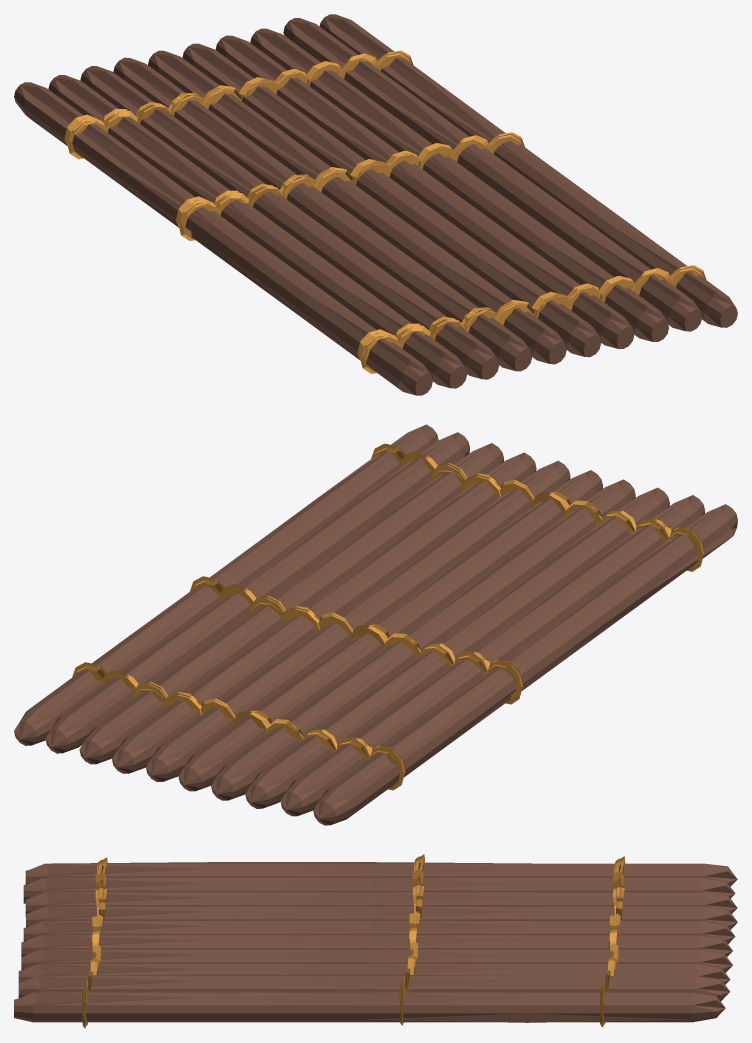
The model's file is Liferaft made of logs.glb.
3 renders of one model, top to bottom at view 1: azimuth 30°, elevation 25°; view 2: azimuth 150°, elevation 25°; view 3: azimuth 270°, elevation 25°, orthographic. The views are drawn at different scales.
Visible parts, largest first — view 1: group1109924147, group1479666486, group1006558148, group1051162785, group1740383255, group1007647190, group1103429856, group1219024400, group956271849, group333739939, group1555637147, group403370847 (+4 smaller); view 2: group1109924147, group1479666486, group1740383255, group1006558148, group1051162785, group1103429856, group956271849, group1007647190, group1219024400, group333739939, group731174037, group635209750 (+4 smaller); view 3: group333739939, group1479666486, group1740383255, group1007647190, group1219024400, group1051162785, group1006558148, group1109924147, group956271849, group1103429856, group1555637147, group403370847 (+4 smaller).
Boxes of the visible parts, box(x1,y1,x2,y2) form: group1109924147: box(14, 82, 432, 395); group1479666486: box(283, 18, 702, 331); group1006558148: box(113, 57, 531, 371); group1051162785: box(80, 66, 499, 379); group1740383255: box(182, 43, 600, 357); group1007647190: box(215, 35, 634, 348); group1103429856: box(250, 28, 668, 341); group1219024400: box(148, 50, 566, 364); group956271849: box(48, 75, 467, 388); group333739939: box(319, 14, 737, 327); group1555637147: box(178, 132, 524, 240); group403370847: box(360, 265, 706, 373); group1109924147: box(313, 504, 737, 825); group1479666486: box(45, 432, 469, 753); group1740383255: box(146, 460, 570, 781); group1006558148: box(211, 479, 635, 800); group1051162785: box(245, 487, 669, 808); group1103429856: box(79, 443, 503, 764); group956271849: box(280, 495, 704, 816); group1007647190: box(112, 452, 536, 773); group1219024400: box(178, 470, 602, 791); group333739939: box(14, 424, 438, 745); group731174037: box(190, 577, 522, 703); group635209750: box(73, 663, 405, 789); group333739939: box(14, 991, 725, 1022); group1479666486: box(18, 974, 730, 1001); group1740383255: box(21, 933, 732, 956); group1007647190: box(21, 948, 732, 972); group1219024400: box(23, 919, 735, 943); group1051162785: box(25, 890, 737, 917); group1006558148: box(26, 905, 737, 929); group1109924147: box(25, 862, 737, 886); group956271849: box(23, 876, 735, 903); group1103429856: box(18, 962, 730, 984); group1555637147: box(399, 856, 420, 1025); group403370847: box(82, 859, 103, 1028).
Size of the model in its own units: 1.44 by 0.1996 by 2.99.
